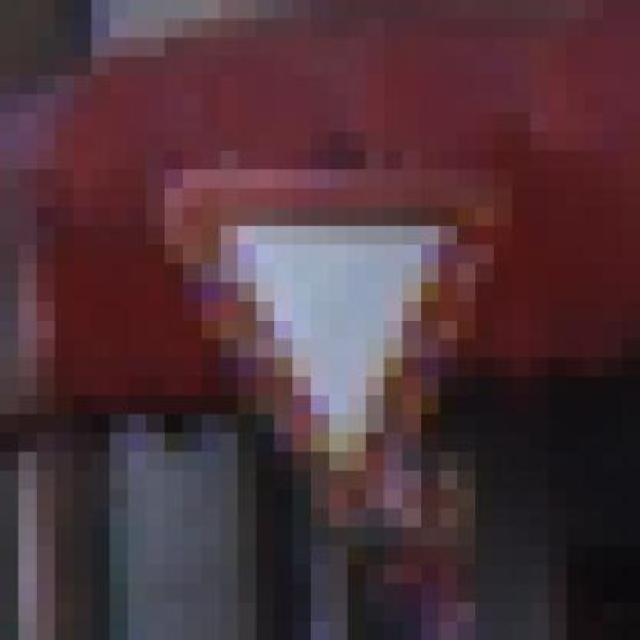Give Way: (110, 132, 567, 602)
